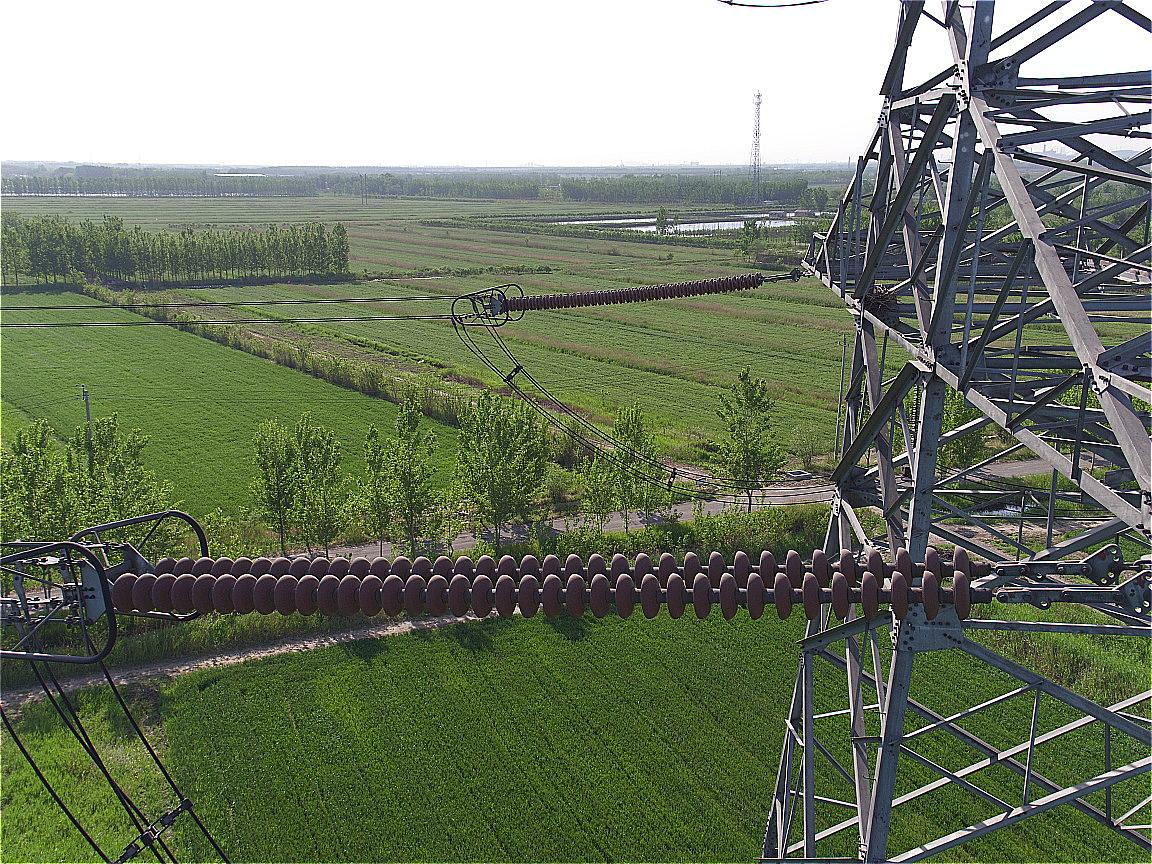insultor1: (113, 547, 976, 617)
insultor2: (504, 270, 765, 313)
